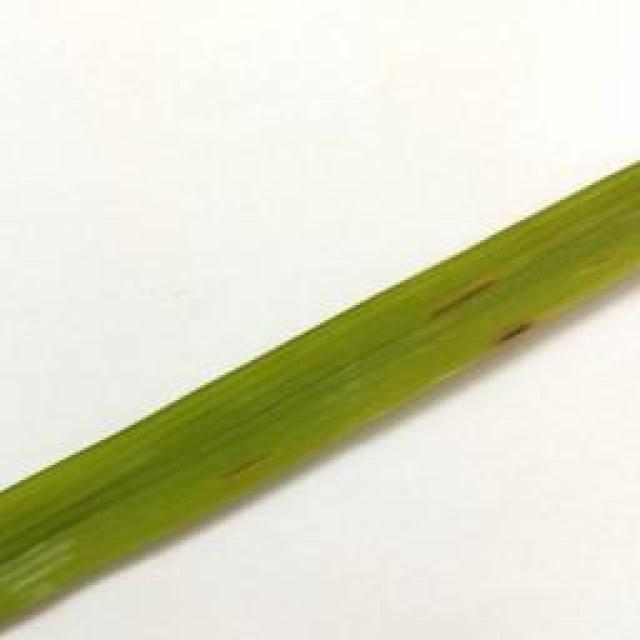Bacterial_Blight: (0, 526, 78, 620)
Brown_Spot: (418, 263, 502, 331), (229, 442, 291, 502), (490, 311, 542, 357)
